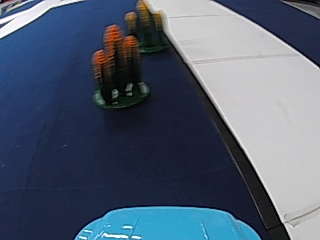corn: (91, 25, 147, 110), (125, 0, 169, 54)
